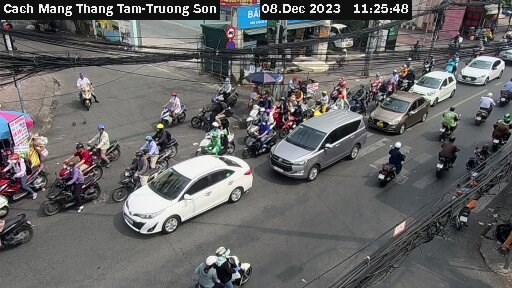car: (121, 154, 256, 232), (269, 109, 372, 181), (372, 89, 431, 135), (413, 70, 458, 106), (463, 52, 505, 88)
motorbike: (193, 244, 263, 283), (47, 177, 110, 210), (369, 142, 419, 182), (53, 148, 110, 180), (123, 140, 177, 171), (427, 137, 470, 174), (1, 160, 47, 194), (147, 87, 185, 127), (188, 99, 242, 123), (68, 83, 110, 112), (3, 209, 36, 245), (192, 126, 236, 153), (484, 110, 512, 148), (143, 127, 186, 151), (434, 108, 469, 136), (90, 136, 131, 159), (473, 90, 503, 121), (458, 198, 483, 235), (351, 82, 375, 105), (331, 76, 353, 94)
